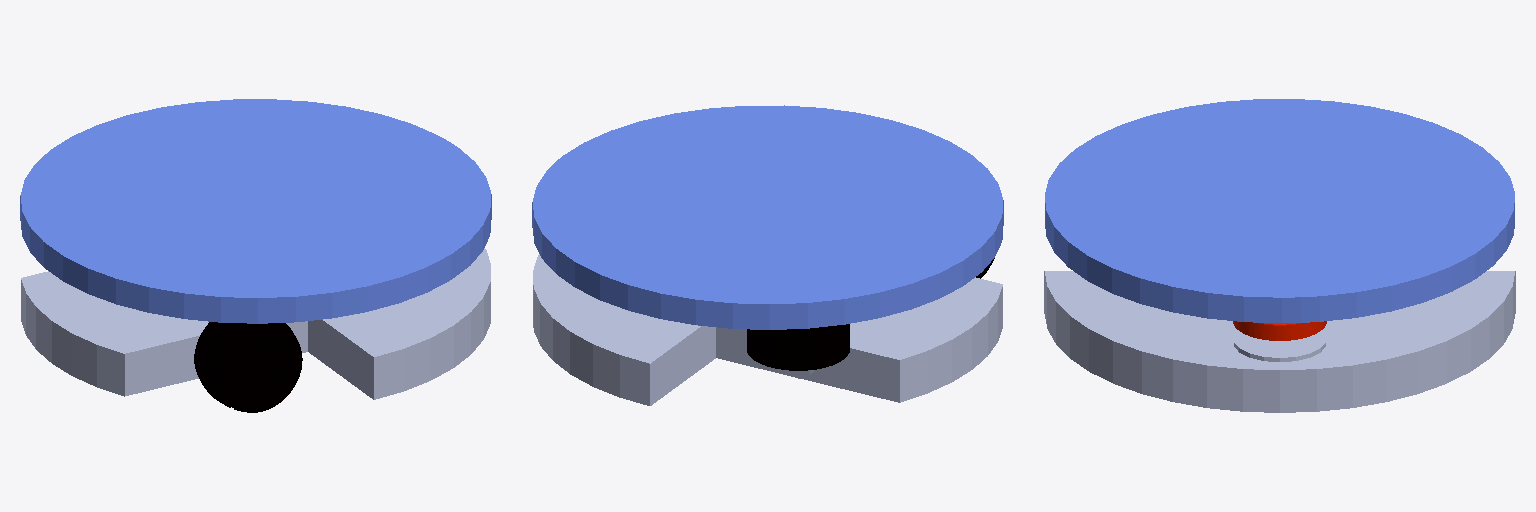
robot.urdf — diff_offset_robot:
<!-- ?xml version="1.0" encoding="utf-8"? -->
<!-- This URDF was automatically created by SolidWorks to URDF Exporter! Originally created by [author] ([email redacted]) 
     Commit Version: 1.6.0-4-g7f85cfe  Build Version: 1.6.7995.38578
     For more information, please see http://wiki.ros.org/sw_urdf_exporter -->
<robot
  name="diff_offset_robot">
  <link
    name="base_link">
    <inertial>
      <origin
        xyz="0.00767413610313483 -1.59594559789866E-16 0.0244882600344697"
        rpy="0 0 0" />
      <mass
        value="6.20721211987107" />
      <inertia
        ixx="0.065603714804586"
        ixy="-2.62715981130129E-17"
        ixz="-0.00271747552637359"
        iyy="0.107958443318796"
        iyz="1.27853406126115E-18"
        izz="0.1714956110287" />
    </inertial>
    <visual>
      <origin
        xyz="0 0 0"
        rpy="0 0 0" />
      <geometry>
        <mesh
          filename="package://model_robot/meshes/base_link.STL" />
      </geometry>
      <material
        name="">
        <color
          rgba="0.792156862745098 0.819607843137255 0.933333333333333 1" />
      </material>
    </visual>
    <collision>
      <origin
        xyz="0 0 0"
        rpy="0 0 0" />
      <geometry>
        <mesh
          filename="package://model_robot/meshes/base_link.STL" />
      </geometry>
    </collision>
  </link>
  <link
    name="left_wheel_link">
    <inertial>
      <origin
        xyz="0 1.3115E-15 0.04781"
        rpy="0 0 0" />
      <mass
        value="0.37174" />
      <inertia
        ixx="0.00039822"
        ixy="-3.0493E-19"
        ixz="-3.7264E-20"
        iyy="0.00039822"
        iyz="1.2533E-18"
        izz="0.00057276" />
    </inertial>
    <visual>
      <origin
        xyz="0 0 0"
        rpy="0 0 0" />
      <geometry>
        <mesh
          filename="package://model_robot/meshes/left_wheel_link.STL" />
      </geometry>
      <material
        name="">
        <color
          rgba="0.019608 0 0 1" />
      </material>
    </visual>
    <collision>
      <origin
        xyz="0 0 0"
        rpy="0 0 0" />
      <geometry>
        <mesh
          filename="package://model_robot/meshes/left_wheel_link.STL" />
      </geometry>
    </collision>
  </link>
  <joint
    name="left_wheel_joint"
    type="continuous">
    <origin
      xyz="-0.11225 0.13 0.02"
      rpy="0 0 1.5708" />
    <parent
      link="base_link" />
    <child
      link="left_wheel_link" />
    <axis
      xyz="0 0 1" />
    <limit
      effort="100"
      velocity="100" />
    <dynamics
      damping="0.1"
      friction="0.1" />
  </joint>
  <link
    name="right_wheel_link">
    <inertial>
      <origin
        xyz="4.4409E-16 3.6429E-16 -0.04781"
        rpy="0 0 0" />
      <mass
        value="0.37174" />
      <inertia
        ixx="0.00039822"
        ixy="1.7549E-18"
        ixz="-2.7572E-19"
        iyy="0.00039822"
        iyz="7.3638E-20"
        izz="0.00057276" />
    </inertial>
    <visual>
      <origin
        xyz="0 0 0"
        rpy="0 0 0" />
      <geometry>
        <mesh
          filename="package://model_robot/meshes/right_wheel_link.STL" />
      </geometry>
      <material
        name="">
        <color
          rgba="0.019608 0 0 1" />
      </material>
    </visual>
    <collision>
      <origin
        xyz="0 0 0"
        rpy="0 0 0" />
      <geometry>
        <mesh
          filename="package://model_robot/meshes/right_wheel_link.STL" />
      </geometry>
    </collision>
  </link>
  <joint
    name="right_wheel_joint"
    type="continuous">
    <origin
      xyz="-0.11225 -0.13 0.02"
      rpy="-1.5708 0 0" />
    <parent
      link="base_link" />
    <child
      link="right_wheel_link" />
    <axis
      xyz="0 0 1" />
    <limit
      effort="100"
      velocity="100" />
    <dynamics
      damping="0.1"
      friction="0.1" />
  </joint>
  <link
    name="top_base_link">
    <inertial>
      <origin
        xyz="4.4409E-16 -1.6653E-16 0.043846"
        rpy="0 0 0" />
      <mass
        value="6.1261" />
      <inertia
        ixx="0.092849"
        ixy="2.2239E-18"
        ixz="6.6189E-19"
        iyy="0.092849"
        iyz="-1.3571E-19"
        izz="0.18437" />
    </inertial>
    <visual>
      <origin
        xyz="0 0 0"
        rpy="0 0 0" />
      <geometry>
        <mesh
          filename="package://model_robot/meshes/top_base_link.STL" />
      </geometry>
      <material
        name="">
        <color
          rgba="0.48235 0.61176 1 1" />
      </material>
    </visual>
    <collision>
      <origin
        xyz="0 0 0"
        rpy="0 0 0" />
      <geometry>
        <mesh
          filename="package://model_robot/meshes/top_base_link.STL" />
      </geometry>
    </collision>
  </link>
  <joint
    name="top_base_joint"
    type="revolute">
    <origin
      xyz="0 0 0.05"
      rpy="0 0 0" />
    <parent
      link="base_link" />
    <child
      link="top_base_link" />
    <axis
      xyz="0 0 1" />
    <limit
      lower="0"
      upper="6.2832"
      effort="100"
      velocity="100" />
    <dynamics
      damping="0.1"
      friction="0.1" />
  </joint>
  <link
    name="lidar_link">
    <inertial>
      <origin
        xyz="0 -6.9389E-18 0.0099837"
        rpy="0 0 0" />
      <mass
        value="0.15681" />
      <inertia
        ixx="0.00010306"
        ixy="6.7763E-21"
        ixz="-1.185E-21"
        iyy="0.00010306"
        iyz="2.1885E-23"
        izz="0.00019569" />
    </inertial>
    <visual>
      <origin
        xyz="0 0 0"
        rpy="0 0 0" />
      <geometry>
        <mesh
          filename="package://model_robot/meshes/lidar_link.STL" />
      </geometry>
      <material
        name="">
        <color
          rgba="0.94118 0.16863 0 1" />
      </material>
    </visual>
    <collision>
      <origin
        xyz="0 0 0"
        rpy="0 0 0" />
      <geometry>
        <mesh
          filename="package://model_robot/meshes/lidar_link.STL" />
      </geometry>
    </collision>
  </link>
  <joint
    name="lidar_joint"
    type="continuous">
    <origin
      xyz="0.18 0 0.05"
      rpy="0 0 0" />
    <parent
      link="base_link" />
    <child
      link="lidar_link" />
    <axis
      xyz="0 0 1" />
    <limit
      effort="100"
      velocity="100" />
    <dynamics
      damping="0.1"
      friction="0.1" />
  </joint>
  <link
    name="body_wheel_link">
    <inertial>
      <origin
        xyz="0.0039086 -6.4483E-06 0.0095064"
        rpy="0 0 0" />
      <mass
        value="0.038337" />
      <inertia
        ixx="6.4036E-06"
        ixy="9.6169E-12"
        ixz="-8.202E-07"
        iyy="6.8878E-06"
        iyz="4.6142E-11"
        izz="8.465E-06" />
    </inertial>
    <visual>
      <origin
        xyz="0 0 0"
        rpy="0 0 0" />
      <geometry>
        <mesh
          filename="package://model_robot/meshes/body_wheel_link.STL" />
      </geometry>
      <material
        name="">
        <color
          rgba="0.77647 0.75686 0.73725 1" />
      </material>
    </visual>
    <collision>
      <origin
        xyz="0 0 0"
        rpy="0 0 0" />
      <geometry>
        <mesh
          filename="package://model_robot/meshes/body_wheel_link.STL" />
      </geometry>
    </collision>
  </link>
  <joint
    name="body_wheel_joint"
    type="continuous">
    <origin
      xyz="0.125 0 0.004"
      rpy="3.1416 0 0.0019842" />
    <parent
      link="base_link" />
    <child
      link="body_wheel_link" />
    <axis
      xyz="0 0 1" />
    <limit
      effort="100"
      velocity="100" />
    <dynamics
      damping="0.1"
      friction="0.1" />
  </joint>
  <link
    name="caster_wheel_link">
    <inertial>
      <origin
        xyz="-1.1102E-16 5.5511E-17 0"
        rpy="0 0 0" />
      <mass
        value="0.01313" />
      <inertia
        ixx="1.3177E-06"
        ixy="-1.0588E-22"
        ixz="9.6573E-23"
        iyy="1.3177E-06"
        iyz="-1.5696E-22"
        izz="1.8956E-06" />
    </inertial>
    <visual>
      <origin
        xyz="0 0 0"
        rpy="0 0 0" />
      <geometry>
        <mesh
          filename="package://model_robot/meshes/caster_wheel_link.STL" />
      </geometry>
      <material
        name="">
        <color
          rgba="0.25098 0.25098 0.25098 1" />
      </material>
    </visual>
    <collision>
      <origin
        xyz="0 0 0"
        rpy="0 0 0" />
      <geometry>
        <mesh
          filename="package://model_robot/meshes/caster_wheel_link.STL" />
      </geometry>
    </collision>
  </link>
  <joint
    name="caster_wheel_joint"
    type="continuous">
    <origin
      xyz="0.016 0 0.023"
      rpy="1.5708 -0.40647 0" />
    <parent
      link="body_wheel_link" />
    <child
      link="caster_wheel_link" />
    <axis
      xyz="0 0 1" />
    <limit
      effort="100"
      velocity="100" />
    <dynamics
      damping="0.1"
      friction="0.1" />
  </joint>

  <gazebo>
    <plugin name="two_wheeled_robot_diff_drive" filename="libgazebo_ros_diff_drive.so">
 
      <update_rate>100</update_rate>
      
      <!-- wheels -->
      <left_joint>left_wheel_joint</left_joint>
      <right_joint>right_wheel_joint</right_joint>
 
      <!-- kinematics -->
      <wheel_separation>0.36</wheel_separation>
      <wheel_diameter>0.11</wheel_diameter>
 
      <!-- limits -->
      <max_wheel_torque>20</max_wheel_torque>
      <max_wheel_acceleration>20.0</max_wheel_acceleration>
 
      <!-- Receive velocity commands on this ROS topic -->
      <command_topic>cmd_vel</command_topic>
 
      <!-- output -->
      <!-- When false, publish no wheel odometry data to a ROS topic -->
      <publish_odom>true</publish_odom>
 
      <!-- When true, publish coordinate transform from odom to base_footprint -->
      <!-- I usually use the robot_localization package to publish this transform -->  
      <publish_odom_tf>true</publish_odom_tf>
     
      <!-- When true, publish coordinate transform from base_link to the wheels -->
      <!-- The robot_state_publisher package is often used to publish this transform -->  
      <publish_wheel_tf>true</publish_wheel_tf>
 
      <odometry_topic>odom</odometry_topic>
      <odometry_frame>odom_link</odometry_frame>
      <robot_base_frame>base_link</robot_base_frame>
 
      <odometry_source>1</odometry_source>
      <ros>
        <remapping>odom:=wheel/odometry</remapping>
      </ros>
    </plugin>
  </gazebo>

  <gazebo>
    <plugin name="gazebo_ros_joint_state_publisher"
        filename="libgazebo_ros_joint_state_publisher.so">
        <update_rate>100</update_rate>
        <joint_name>top_base_joint</joint_name>
        <joint_name>lidar_joint</joint_name>
        <joint_name>body_wheel_joint</joint_name>
        <joint_name>caster_wheel_joint</joint_name>
    </plugin>
  </gazebo>

</robot>

--- What the picture shows (computed from the rendered views, not written in the file) ---
Views: 3 orthographic renders of the robot side by side, from view 1: azimuth 30°, elevation 25°; view 2: azimuth 150°, elevation 25°; view 3: azimuth 270°, elevation 25°.
Robot: diff_offset_robot — 7 links, 6 joints (1 revolute, 5 continuous); root link base_link; default pose: all joints at 0.
Links seen in each view (by area): view 1: top_base_link, base_link, right_wheel_link; view 2: top_base_link, base_link, left_wheel_link; view 3: top_base_link, base_link, lidar_link.
Link boxes in pixels (left/top/right/bottom): top_base_link: left=20, top=99, right=491, bottom=323; base_link: left=21, top=248, right=490, bottom=399; right_wheel_link: left=194, top=322, right=302, bottom=412; top_base_link: left=532, top=105, right=1003, bottom=329; base_link: left=533, top=254, right=1002, bottom=405; left_wheel_link: left=747, top=324, right=849, bottom=370; top_base_link: left=1045, top=99, right=1514, bottom=322; base_link: left=1044, top=271, right=1515, bottom=412; lidar_link: left=1233, top=321, right=1326, bottom=340.
Bounding box of the posed robot: 0.5 × 0.5 × 0.1649 m (x, y, z).
6 mesh visuals loaded from 7 distinct referenced files (6 binary STL); not drawn: 1 (file found but could not be loaded).